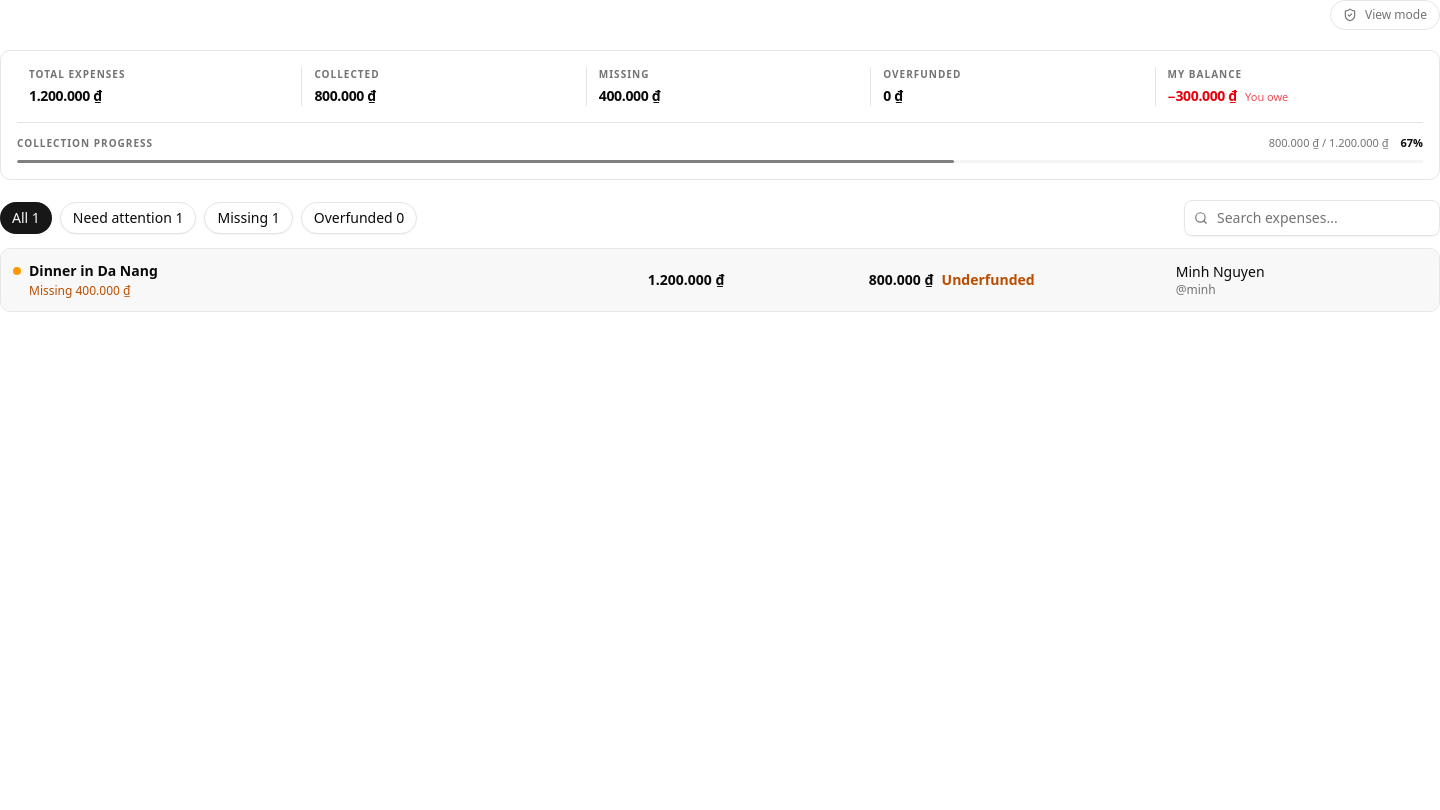
Scenario: ExpensesTab › shows contribution rows as read-only for non-captain
This screenshot has width=1440, height=810.
Step 1. Click the button "Dinner in Da Nang" → (720, 280), box [1,248,1439,310]
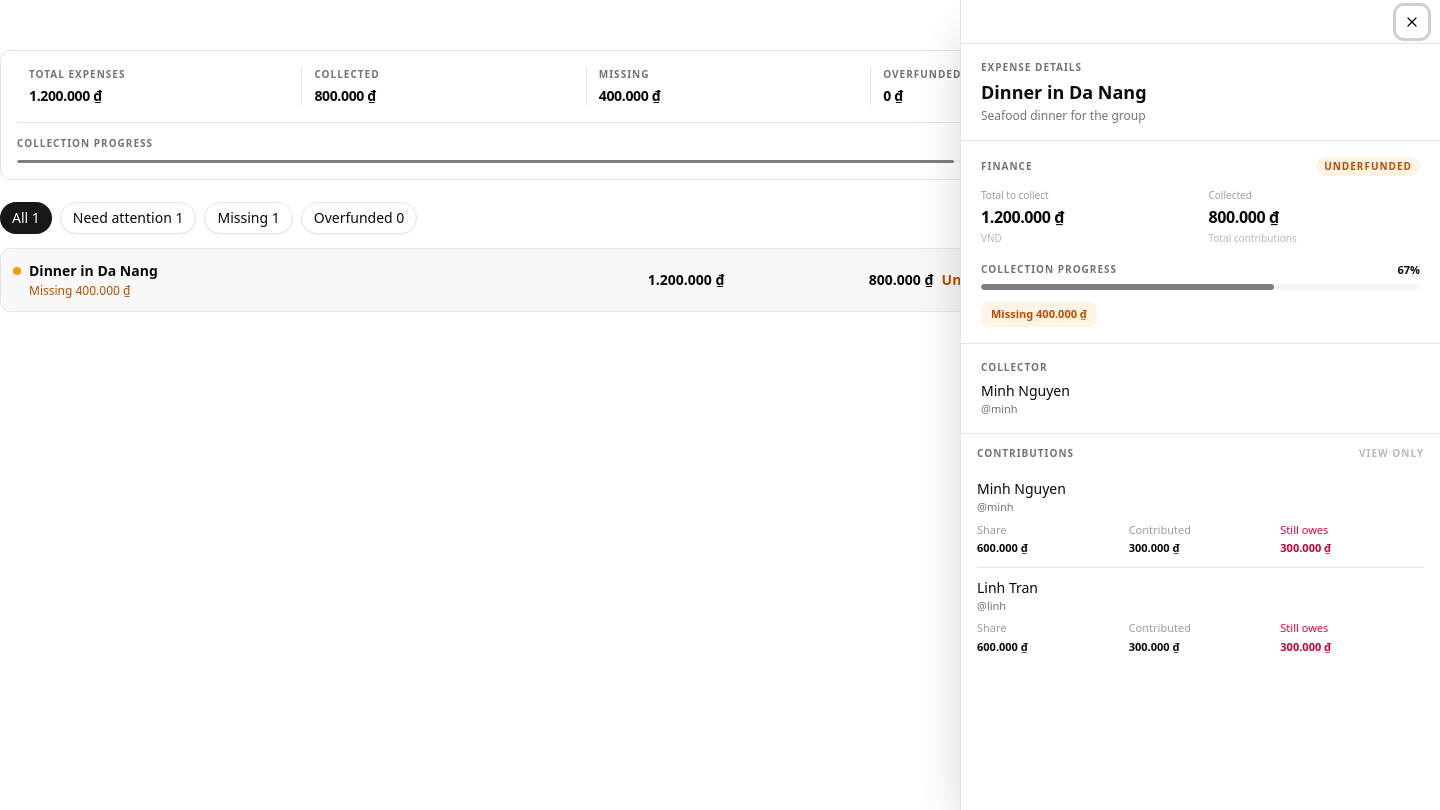
Result: the text "Linh Tran" is shown at [977,578,1038,598]
